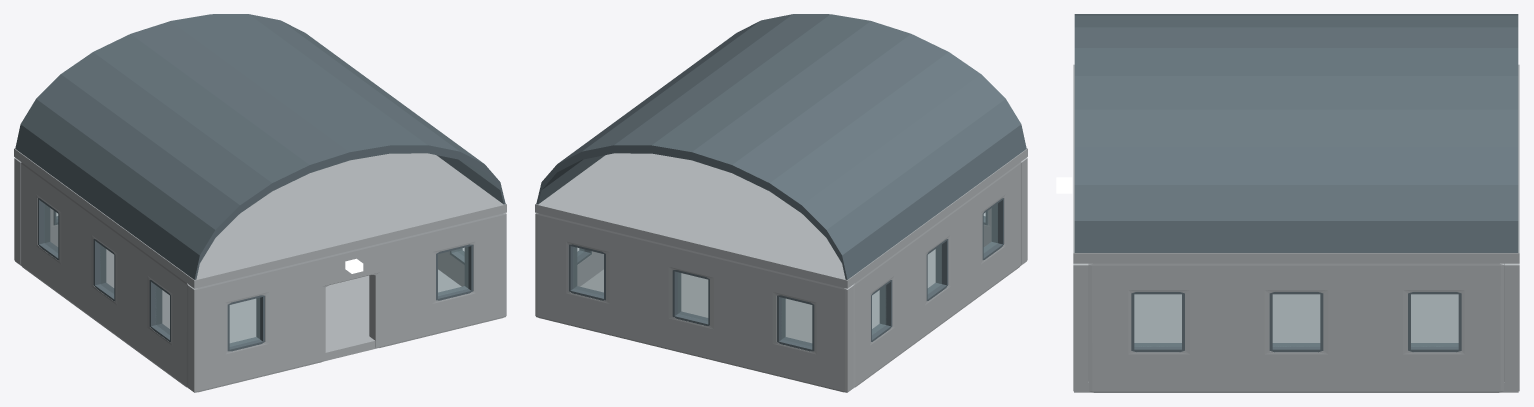
The model's file is hangar_1_lod0.glb.
The picture shows the model from 3 angles, left to right: view 1: azimuth 30°, elevation 25°; view 2: azimuth 150°, elevation 25°; view 3: azimuth 270°, elevation 25°; orthographic projection. The views are drawn at different scales.
Parts seen in each view (by area): view 1: Roof shell baked, Wall_0 baked, Ceiling baked, Wall_3 baked, Floor baked, Glazing.001 baked, Glazing baked, Wall_1 baked, Wall_2 baked, Window jamb.020 baked, Window jamb.018 baked, Glazing.008 baked (+4 smaller); view 2: Roof shell baked, Wall_1 baked, Ceiling baked, Wall_3 baked, Floor baked, Glazing.002 baked, Glazing.003 baked, Glazing.004 baked, Wall_0 baked, Wall_2 baked, Window jamb.017 baked, Window jamb.019 baked (+6 smaller); view 3: Roof shell baked, Wall_2 baked, Floor baked, Ceiling baked, Glazing.005 baked, Glazing.007 baked, Glazing.006 baked, Wall_0 baked, Wall_1 baked, Window sill.012 baked, Window sill.010 baked, Window sill.014 baked.
Boxes of the visible parts, x1,y1,x2,y2 form: Roof shell baked: [15, 14, 505, 279]; Wall_0 baked: [188, 213, 506, 392]; Ceiling baked: [14, 148, 506, 288]; Wall_3 baked: [20, 162, 188, 387]; Floor baked: [15, 249, 505, 392]; Glazing.001 baked: [438, 247, 468, 295]; Glazing baked: [230, 298, 259, 346]; Wall_1 baked: [14, 157, 58, 264]; Wall_2 baked: [438, 251, 464, 286]; Window jamb.020 baked: [149, 280, 162, 327]; Window jamb.018 baked: [93, 239, 106, 286]; Glazing.008 baked: [44, 204, 57, 252]; Roof shell baked: [536, 14, 1026, 279]; Wall_1 baked: [535, 213, 853, 392]; Ceiling baked: [535, 148, 1027, 288]; Wall_3 baked: [853, 162, 1021, 387]; Floor baked: [536, 249, 1026, 392]; Glazing.002 baked: [573, 247, 603, 295]; Glazing.003 baked: [678, 272, 707, 320]; Glazing.004 baked: [782, 298, 811, 346]; Wall_0 baked: [983, 157, 1027, 264]; Wall_2 baked: [577, 251, 603, 286]; Window jamb.017 baked: [879, 280, 892, 327]; Window jamb.019 baked: [935, 239, 948, 286]; Roof shell baked: [1074, 14, 1518, 252]; Wall_2 baked: [1089, 263, 1503, 392]; Floor baked: [1074, 294, 1518, 392]; Ceiling baked: [1073, 64, 1519, 263]; Glazing.005 baked: [1134, 294, 1181, 346]; Glazing.007 baked: [1411, 294, 1458, 346]; Glazing.006 baked: [1273, 294, 1319, 346]; Wall_0 baked: [1073, 263, 1088, 391]; Wall_1 baked: [1504, 263, 1519, 391]; Window sill.012 baked: [1272, 343, 1320, 352]; Window sill.010 baked: [1134, 343, 1181, 352]; Window sill.014 baked: [1411, 343, 1458, 352].
Bounding box in the file's own units: 10 × 6.2 × 10.38.
